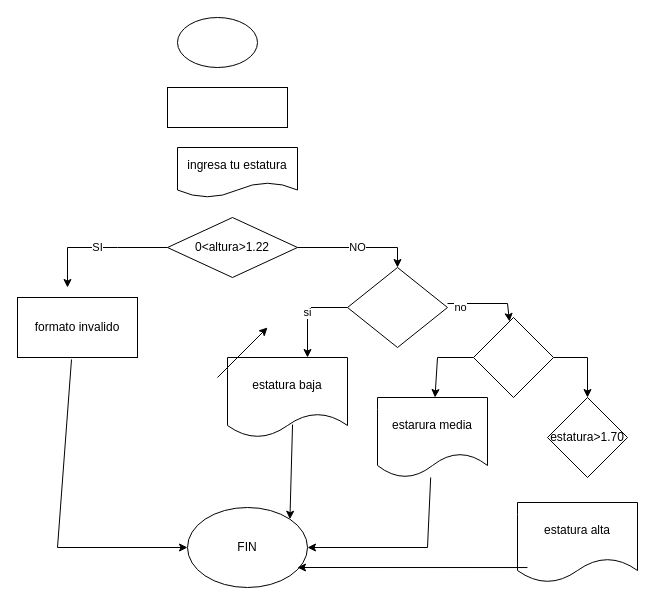
The diagram is 655 pixels wide and 605 high, and some of its shapes have lost their labels. Here are the shapes that lost their labels. From the top down, the centre of each, then its label:
point (217, 42): inicio
point (227, 107): altura
point (397, 307): 0<altura>1.50
point (513, 357): altura<1.70
